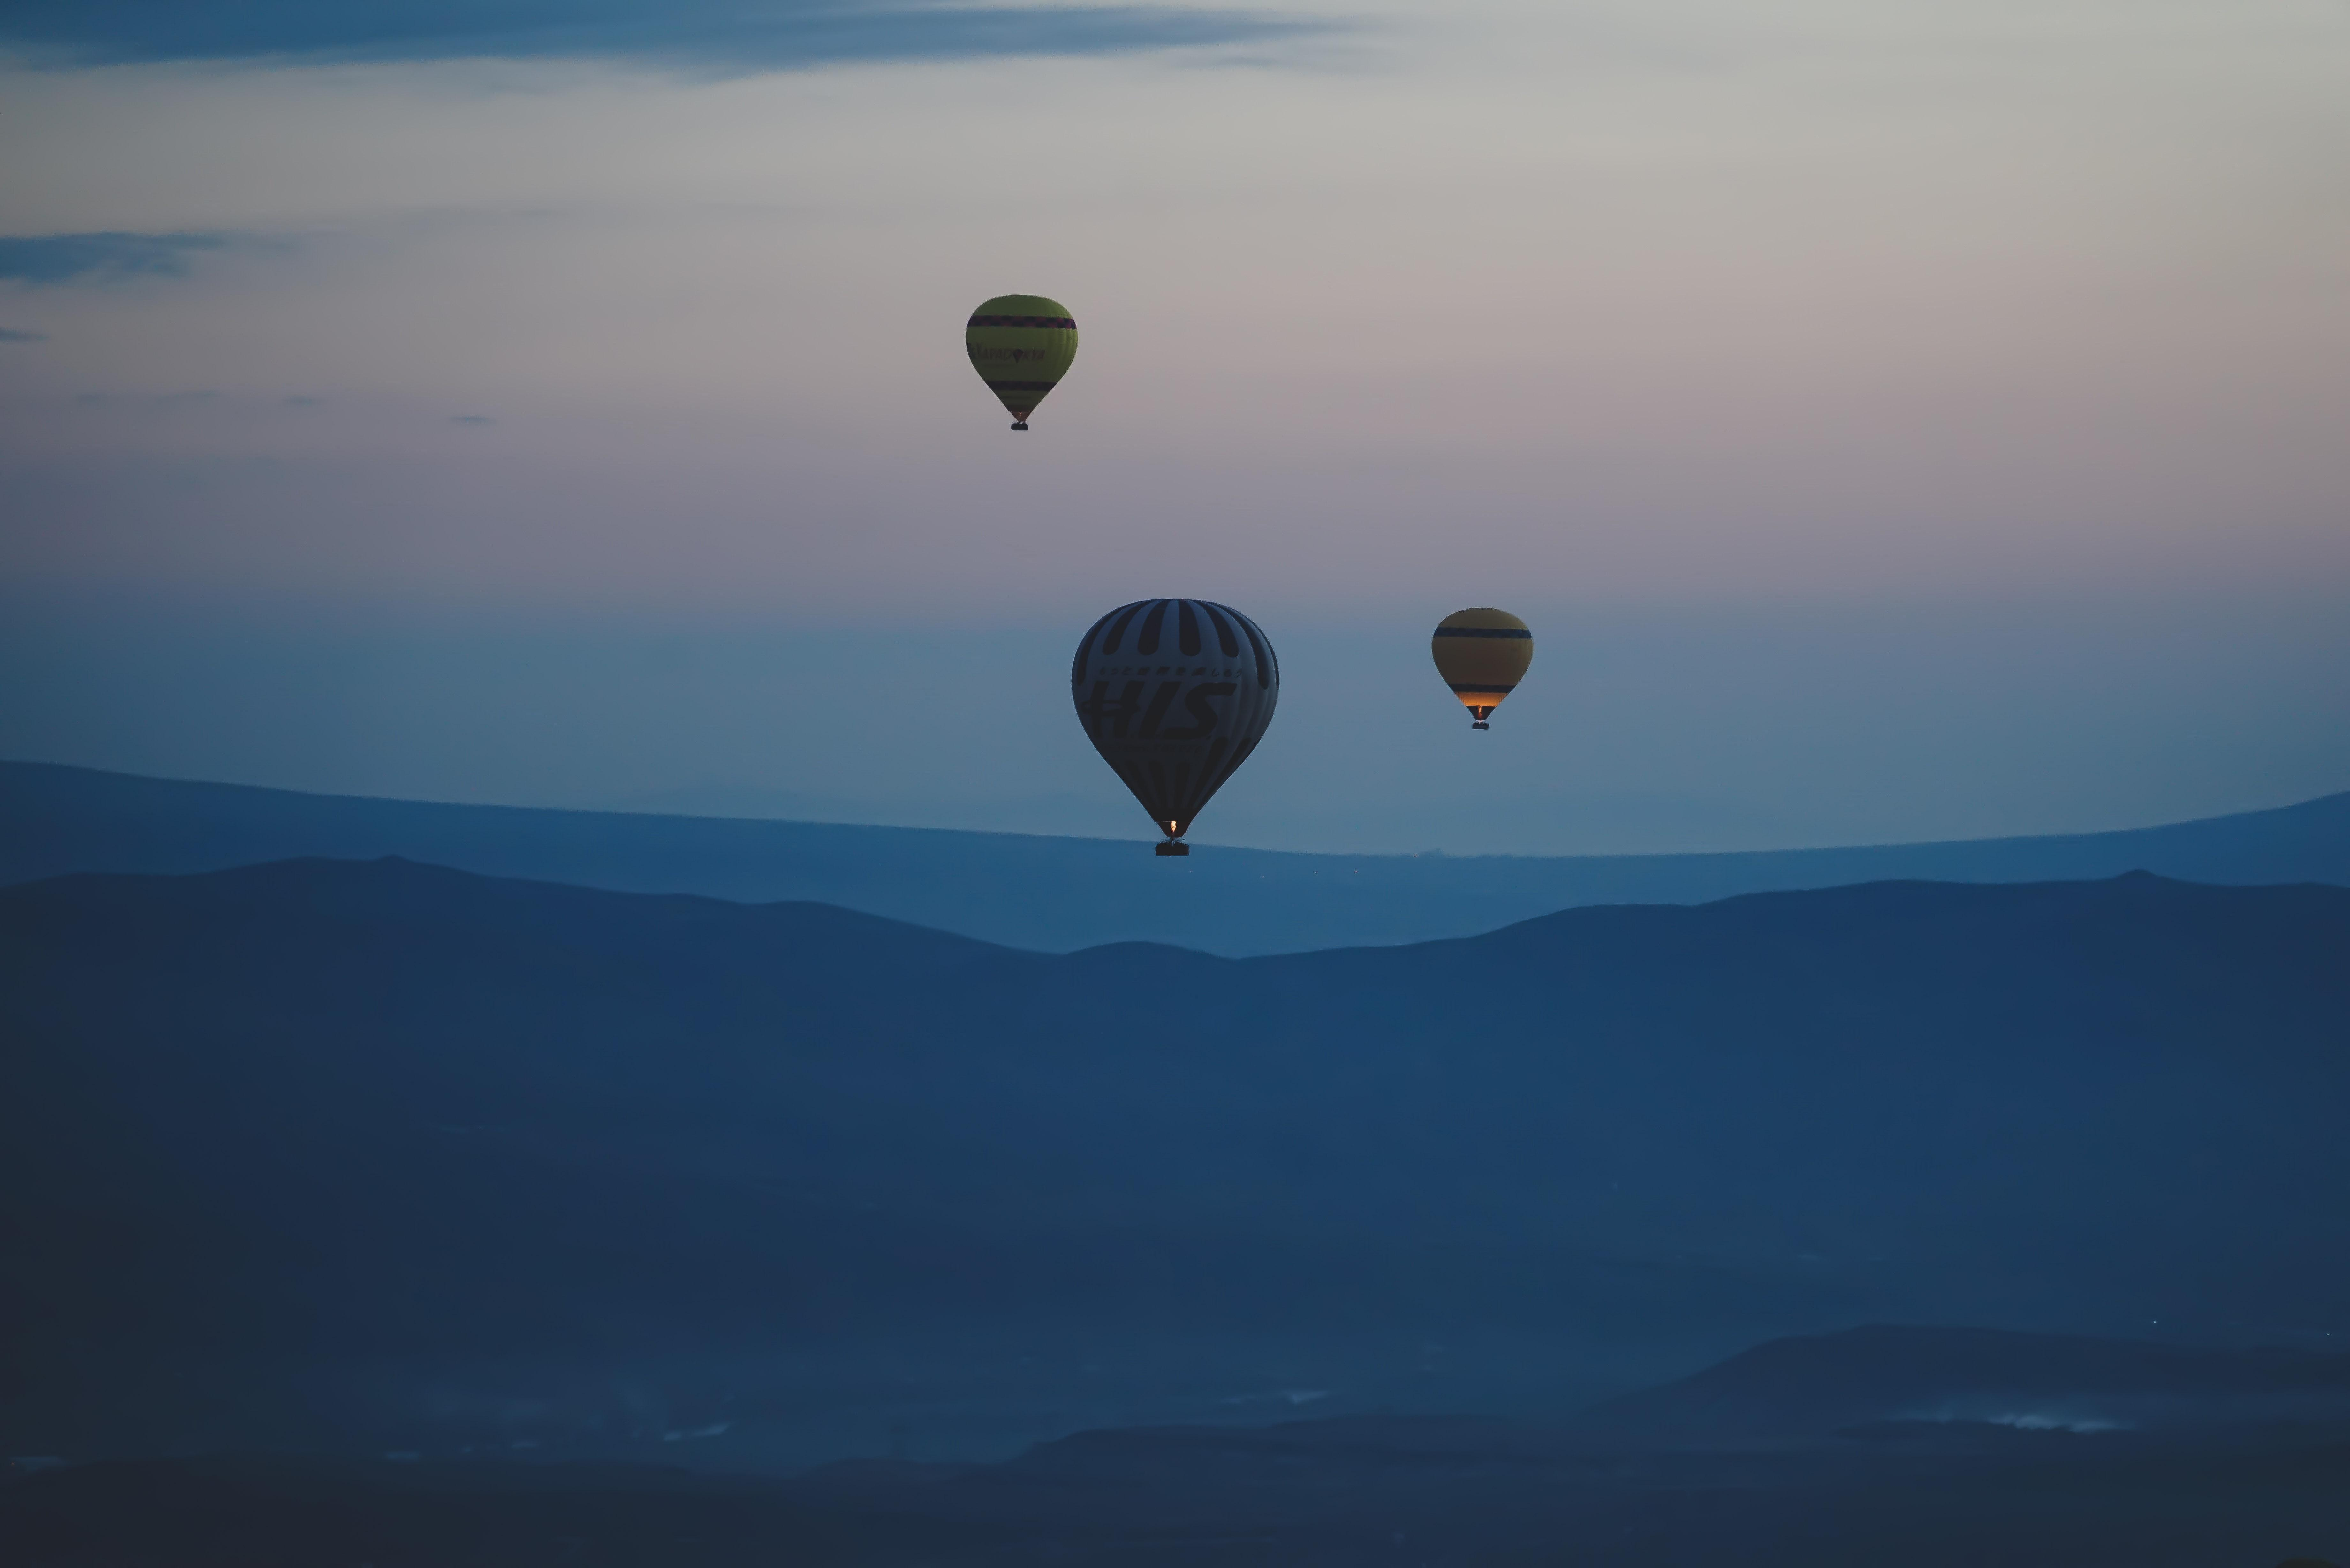hot air ballon: (1074, 598, 1279, 857), (966, 297, 1078, 430), (1431, 609, 1533, 730)
